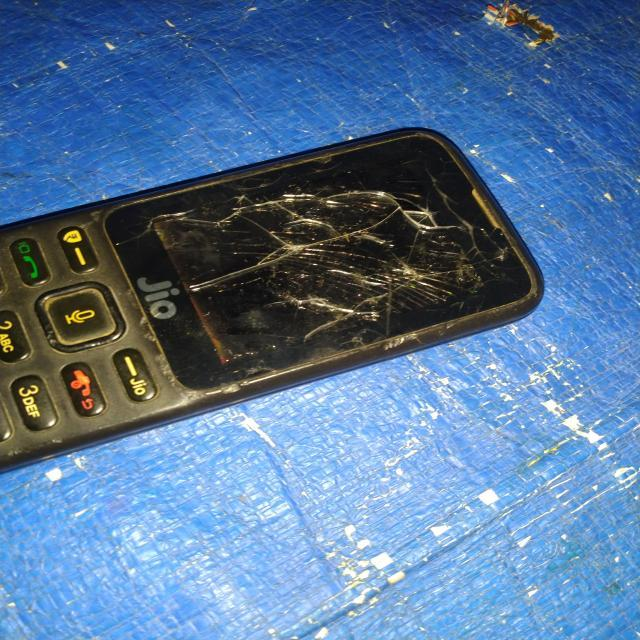screen crack: (126, 143, 515, 382)
